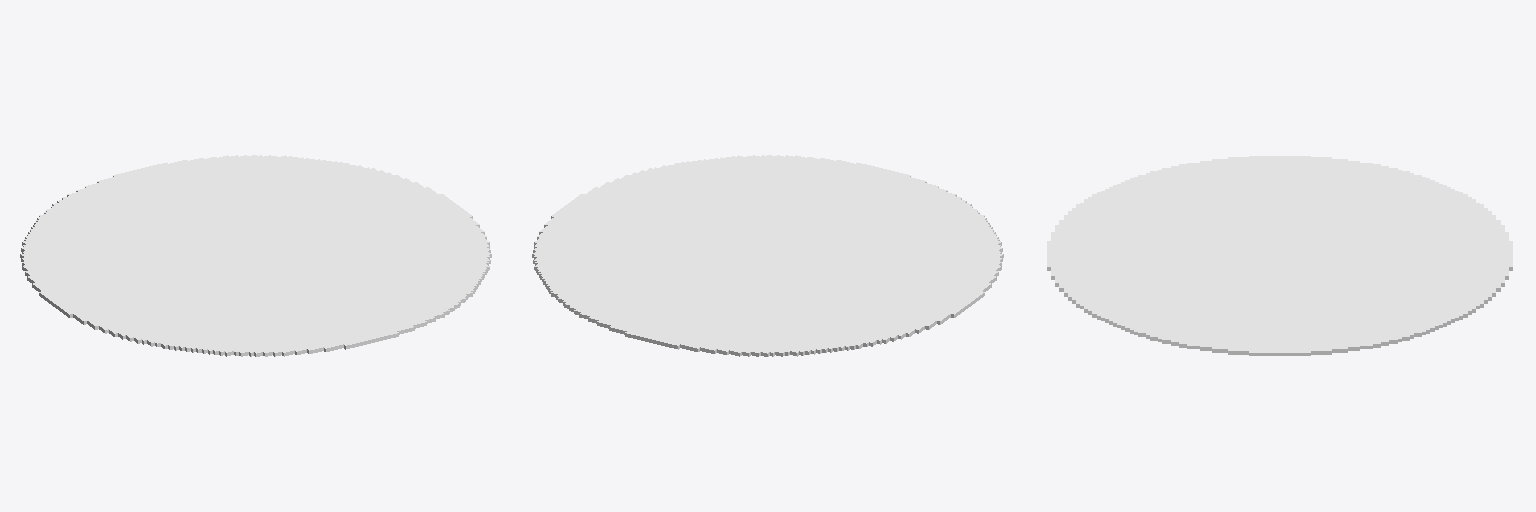
Rendered from Rotatoria.obj.
3 renders of one model, left to right at view 1: azimuth 30°, elevation 25°; view 2: azimuth 150°, elevation 25°; view 3: azimuth 270°, elevation 25°, orthographic.
Parts seen in each view (by area): view 1: object 1; view 2: object 1; view 3: object 1.
Boxes of the visible parts, x1,y1,x2,y2 form: object 1: [20, 155, 491, 356]; object 1: [532, 155, 1003, 356]; object 1: [1047, 156, 1512, 355].
Bounding box in the file's own units: 11.3 × 0.1 × 11.3.